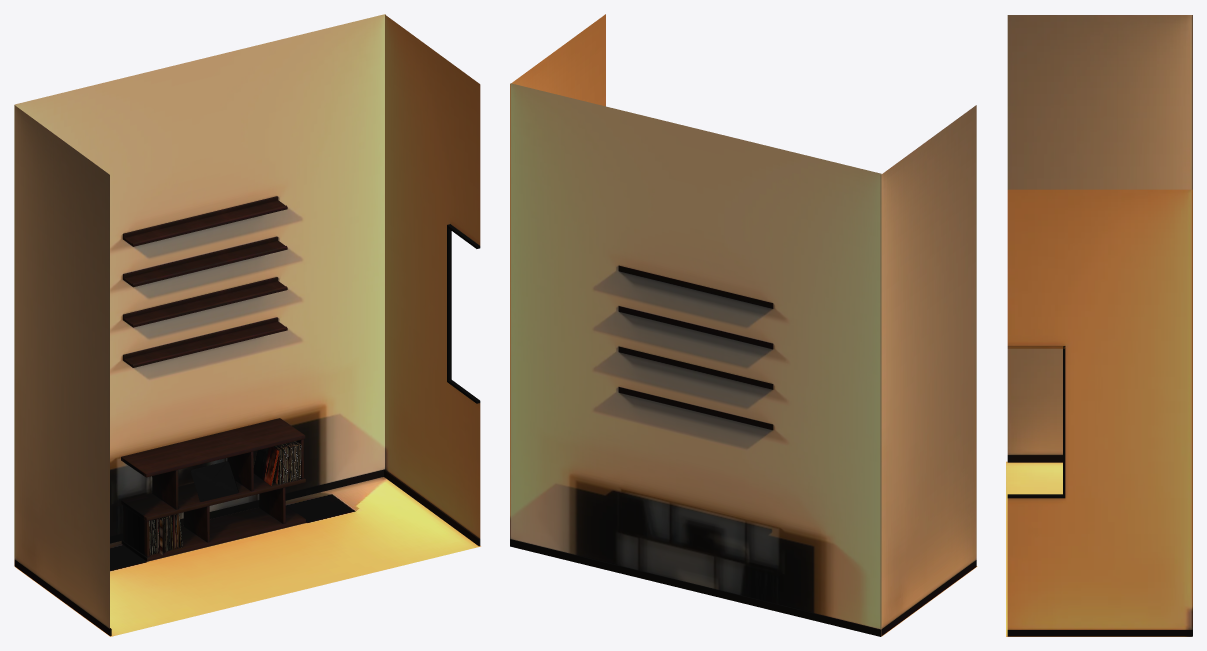
Rendered from room-transformed.glb.
The picture shows the model from 3 angles, left to right: view 1: azimuth 30°, elevation 25°; view 2: azimuth 150°, elevation 25°; view 3: azimuth 270°, elevation 25°; orthographic projection. The views are drawn at different scales.
Parts seen in each view (by area): view 1: Room_Baked, Room.001_Baked, Table_Baked, Shelf_Baked, BgRecords_Baked, Tablet_Baked; view 2: Room.001_Baked, Room_Baked, Shelf_Baked; view 3: Room_Baked.
Boxes of the visible parts, x1=… form: Room_Baked: x1=14, y1=15, x2=480, y2=636; Room.001_Baked: x1=14, y1=14, x2=385, y2=566; Table_Baked: x1=121, y1=418, x2=306, y2=561; Shelf_Baked: x1=123, y1=196, x2=287, y2=367; BgRecords_Baked: x1=149, y1=441, x2=301, y2=555; Tablet_Baked: x1=190, y1=461, x2=238, y2=501; Room.001_Baked: x1=510, y1=83, x2=881, y2=636; Room_Baked: x1=510, y1=14, x2=977, y2=636; Shelf_Baked: x1=618, y1=265, x2=773, y2=429; Room_Baked: x1=1006, y1=15, x2=1192, y2=636.
Size of the model in its own units: 3.2 by 3.82 by 1.44.
6 materials, 6 textured.
